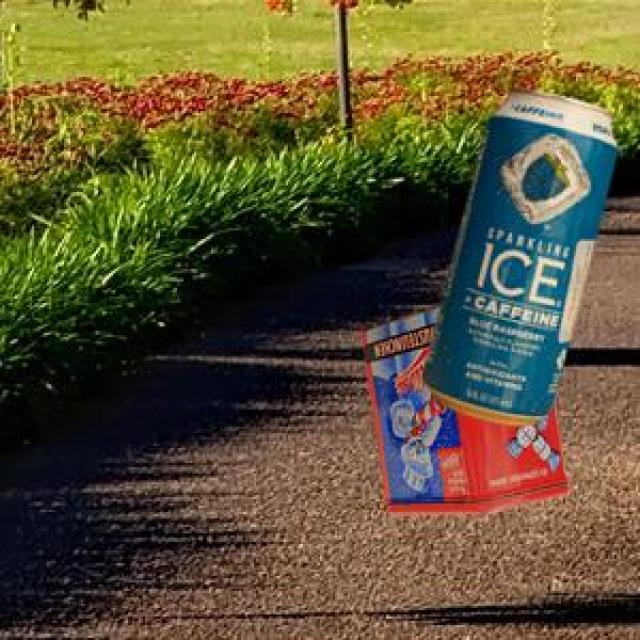logam: (419, 86, 613, 421), (357, 302, 564, 511)
